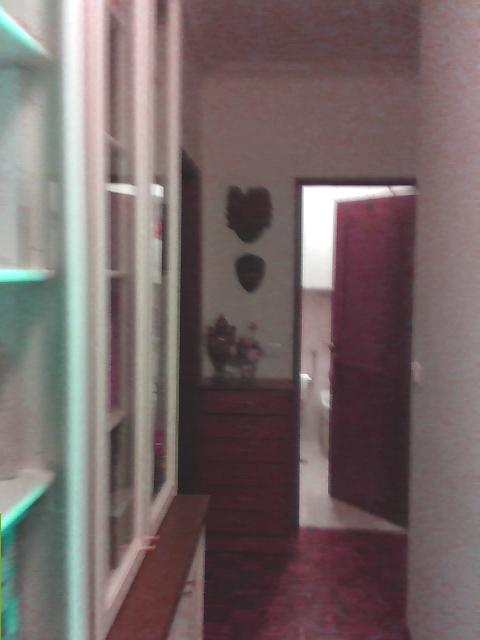semi_door: (291, 173, 417, 534)
